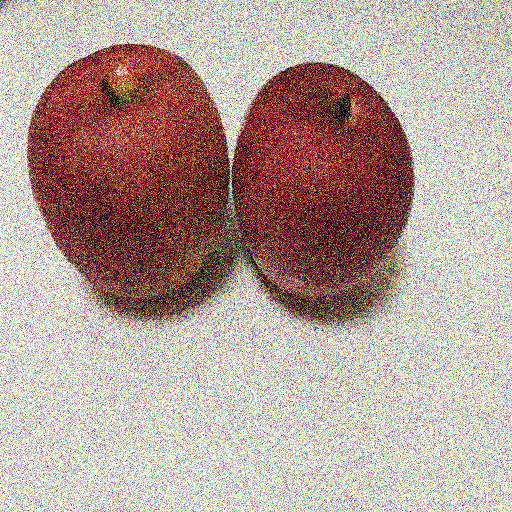fruit: (51, 111, 372, 390), (352, 94, 467, 340)
